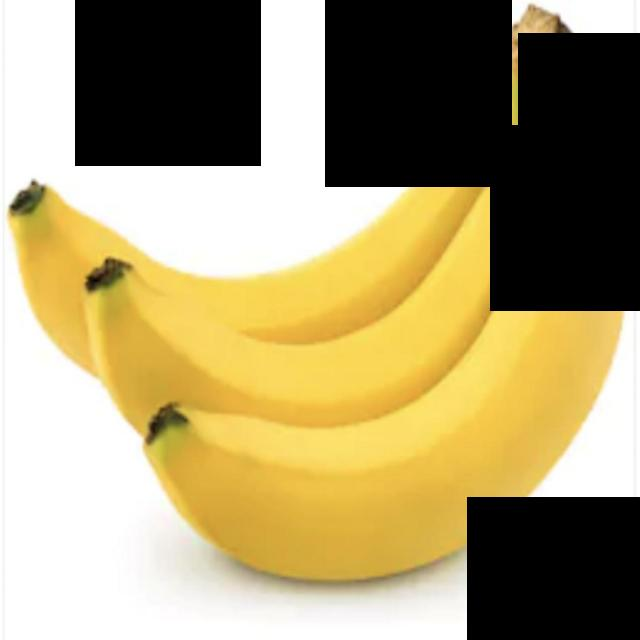banana: (113, 32, 584, 616), (48, 174, 566, 485)
